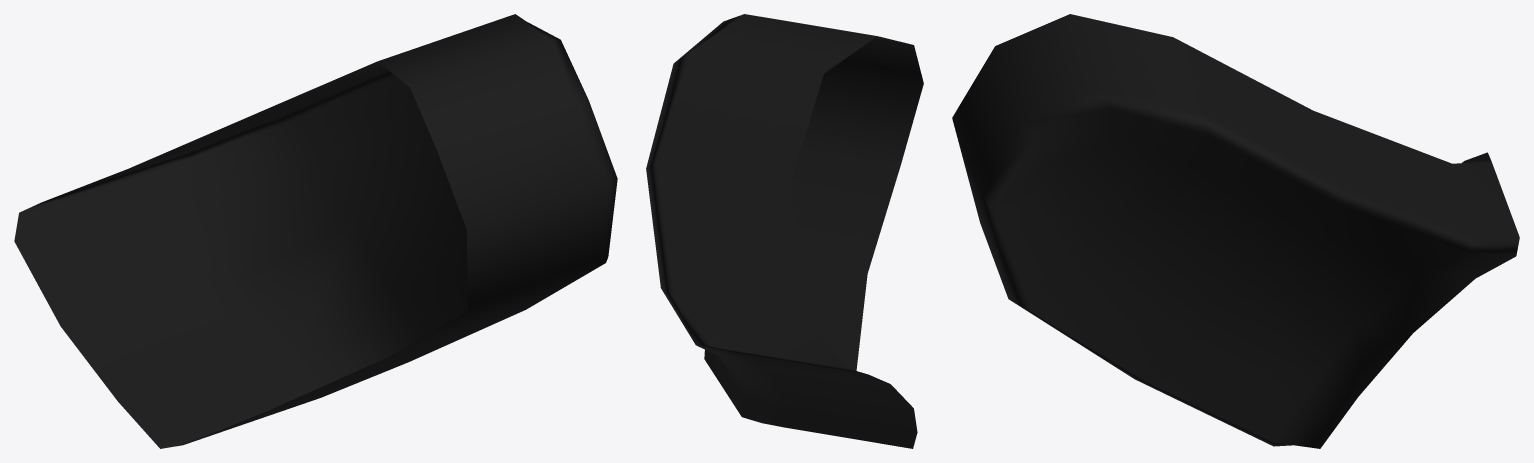
File: crystal_controller_left_button6.obj
3 views of the same model, side by side, from view 1: azimuth 30°, elevation 25°; view 2: azimuth 150°, elevation 25°; view 3: azimuth 270°, elevation 25° (orthographic). The views are drawn at different scales.
Visible parts, largest first — view 1: crystal_controller_left_button6; view 2: crystal_controller_left_button6; view 3: crystal_controller_left_button6.
Boxes of the visible parts, x1,y1,x2,y2 form: crystal_controller_left_button6: [14, 14, 617, 448]; crystal_controller_left_button6: [646, 14, 923, 448]; crystal_controller_left_button6: [952, 14, 1519, 448].
Size of the model in its own units: 0.0218 by 0.0214 by 0.0264.
Materials: 1 (1 with a texture image).
